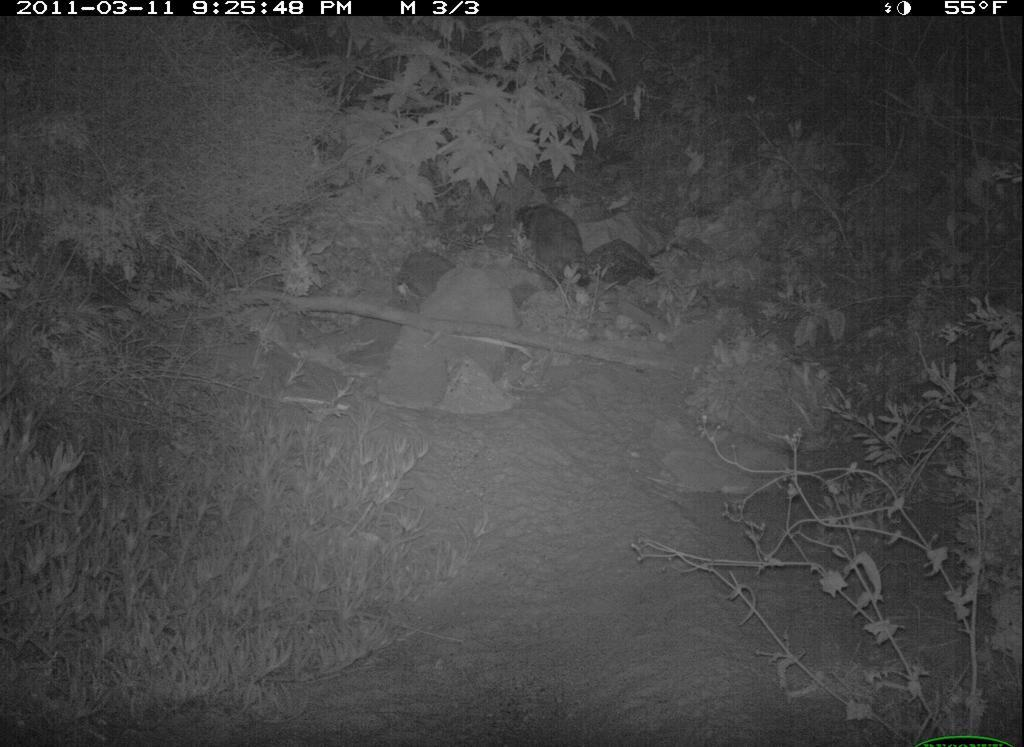raccoon: (518, 198, 657, 301)
